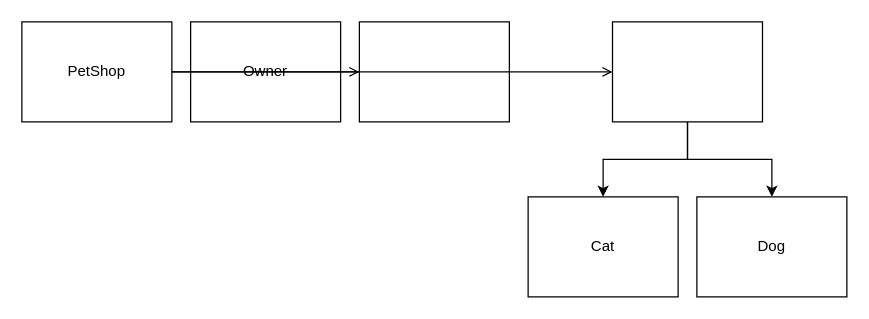
Some shapes in this 869 by 319 pixel diagram are drawn without their labels. The centre of each missing label's shape, as x and y in pixels:
"Animal" goes at point 686,71.
"Veterinarian" goes at point 433,71.
